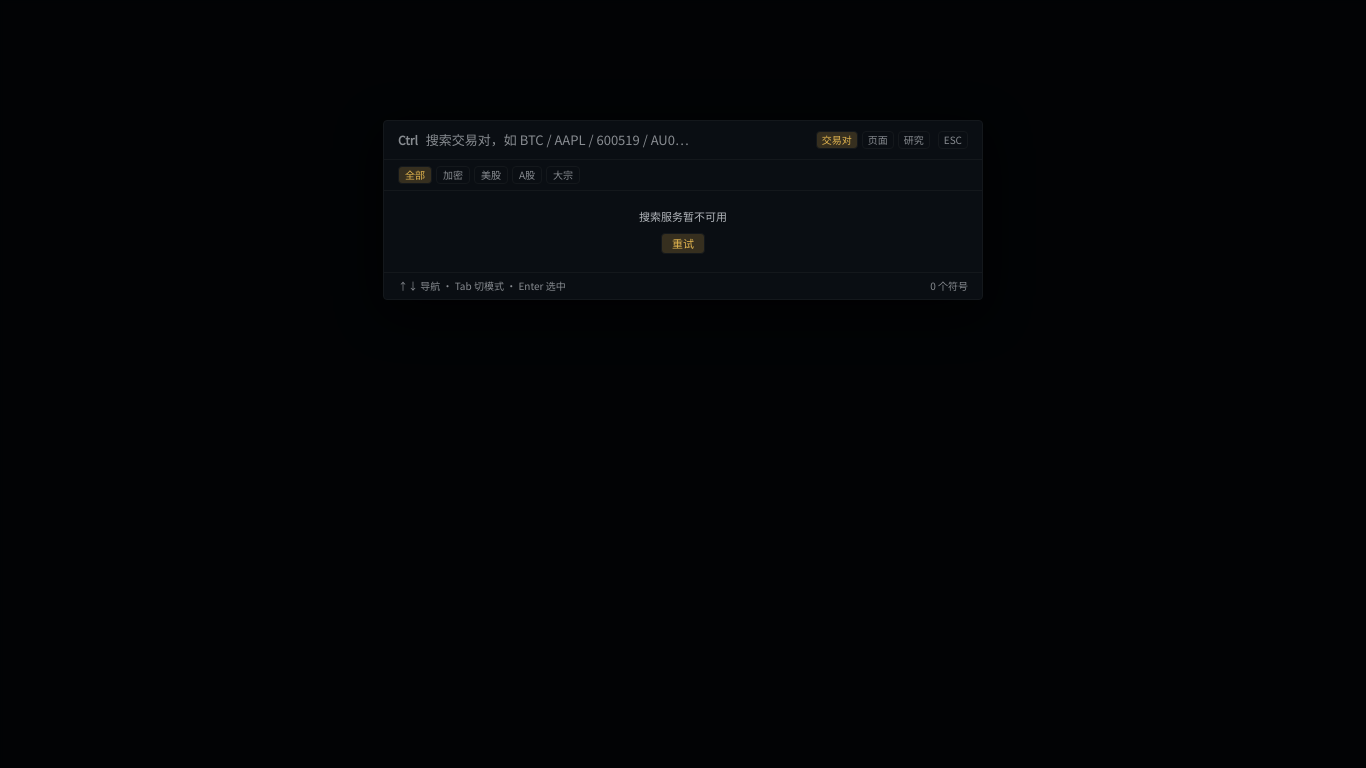
Test: CmdkPanel › 输入 → debounce 后调 /chart/symbols?q= 并按市场分组显示
This screenshot has width=1366, height=768.
Type "btc" into the dropdown.
click(617, 140); type("btc")  # box [426, 131, 808, 149]
Wait 300 ms
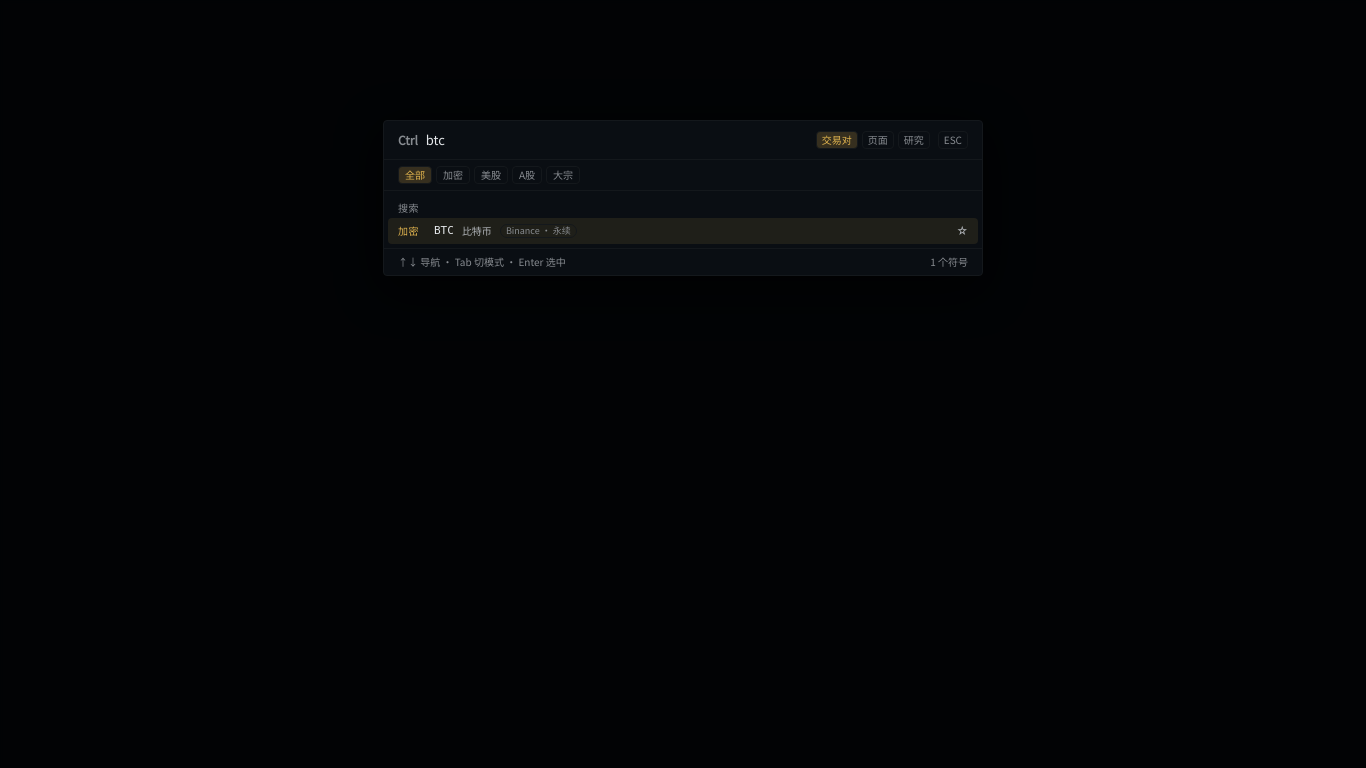
Expected: the text "搜索" is shown, [398, 200, 419, 215]
Expected: the text "比特币" is shown, [462, 224, 492, 238]
Expected: the text with test id "sym-src-badge" shows "Binance", [506, 224, 571, 237]
